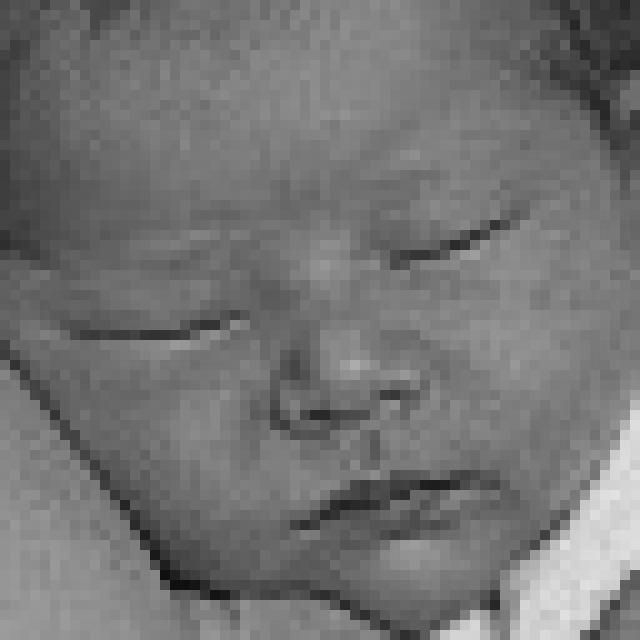real: (7, 6, 640, 628), (64, 184, 542, 362)
